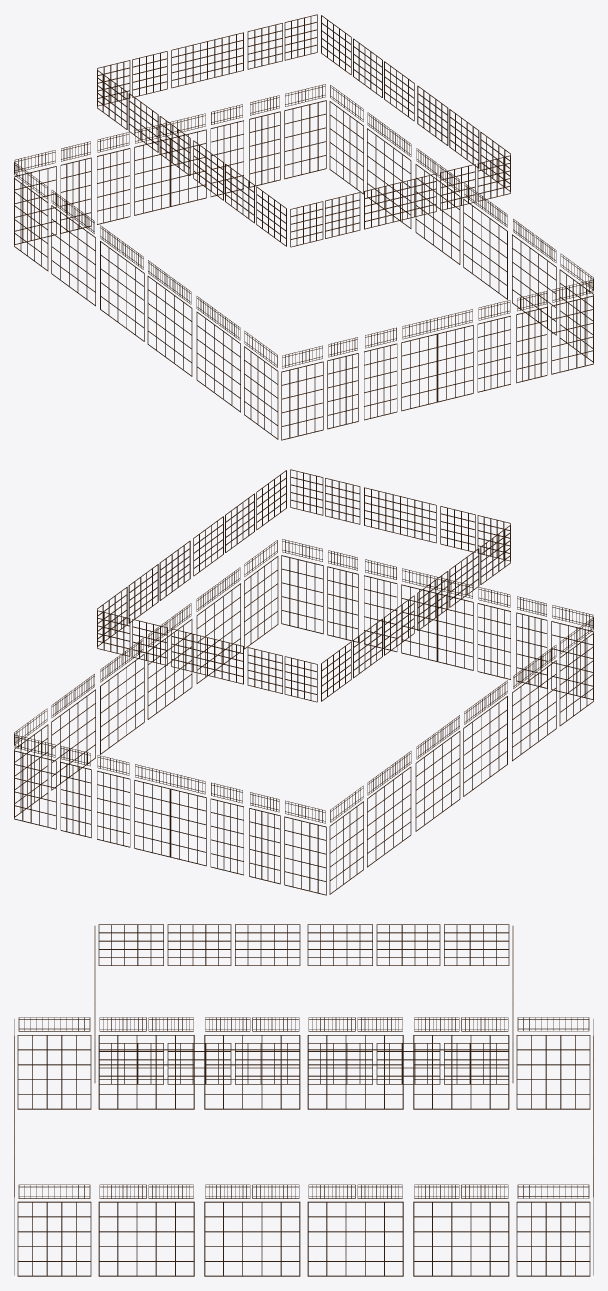
The model's file is Dojo_WoodTrellace.fbx.
3 views of the same model, one above another, from view 1: azimuth 30°, elevation 25°; view 2: azimuth 150°, elevation 25°; view 3: azimuth 270°, elevation 25° (orthographic). The views are drawn at different scales.
Parts seen in each view (by area): view 1: poly_Dojo_WoodTrellace; view 2: poly_Dojo_WoodTrellace; view 3: poly_Dojo_WoodTrellace.
Part boxes in pixels (left/top/right/bottom): poly_Dojo_WoodTrellace: left=14, top=14, right=593, bottom=440; poly_Dojo_WoodTrellace: left=14, top=469, right=593, bottom=895; poly_Dojo_WoodTrellace: left=14, top=924, right=593, bottom=1276.
Size of the model in its own units: 14.92 by 8.69 by 21.85.
